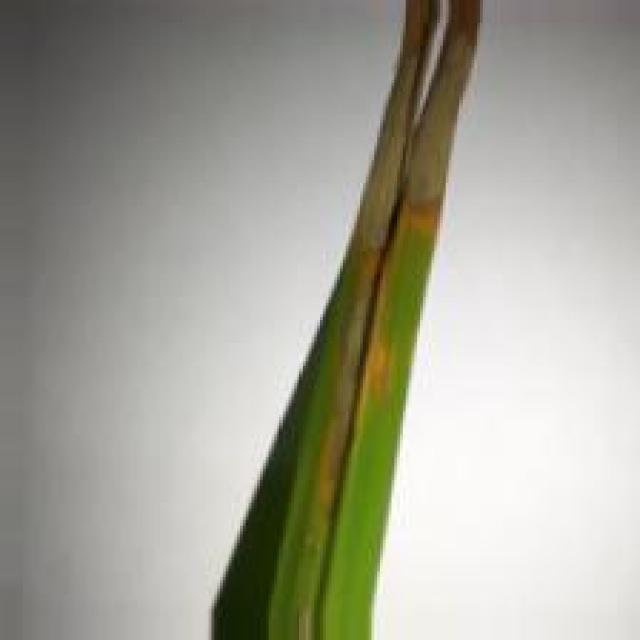Rice False Smut: (314, 0, 478, 508)
